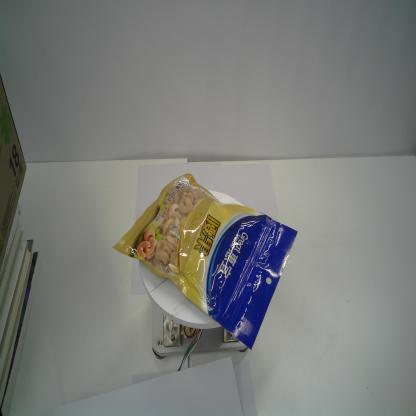Dried Fruit: (111, 172, 299, 351)
